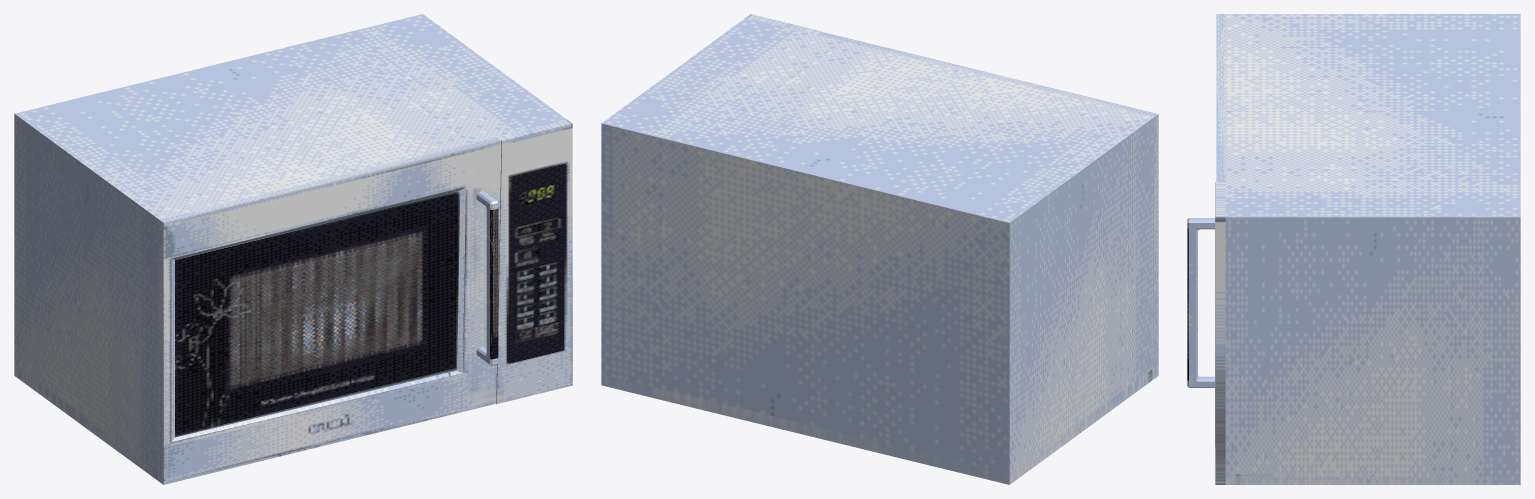
The model's file is Microwave 22 psx.fbx.
The picture shows the model from 3 angles, left to right: view 1: azimuth 30°, elevation 25°; view 2: azimuth 150°, elevation 25°; view 3: azimuth 270°, elevation 25°; orthographic projection. The views are drawn at different scales.
Parts seen in each view (by area): view 1: polySurface1, polySurface3; view 2: polySurface1, polySurface3; view 3: polySurface1, polySurface3.
Part boxes in pixels (<box>): polySurface1: <box>14,14,572,481</box>; polySurface3: <box>159,137,501,484</box>; polySurface1: <box>601,14,1153,484</box>; polySurface3: <box>817,31,1158,378</box>; polySurface1: <box>1215,14,1520,484</box>; polySurface3: <box>1187,14,1225,387</box>.
Size of the model in its own units: 1.63 by 1 by 1.13.
3 materials, 3 textured.
